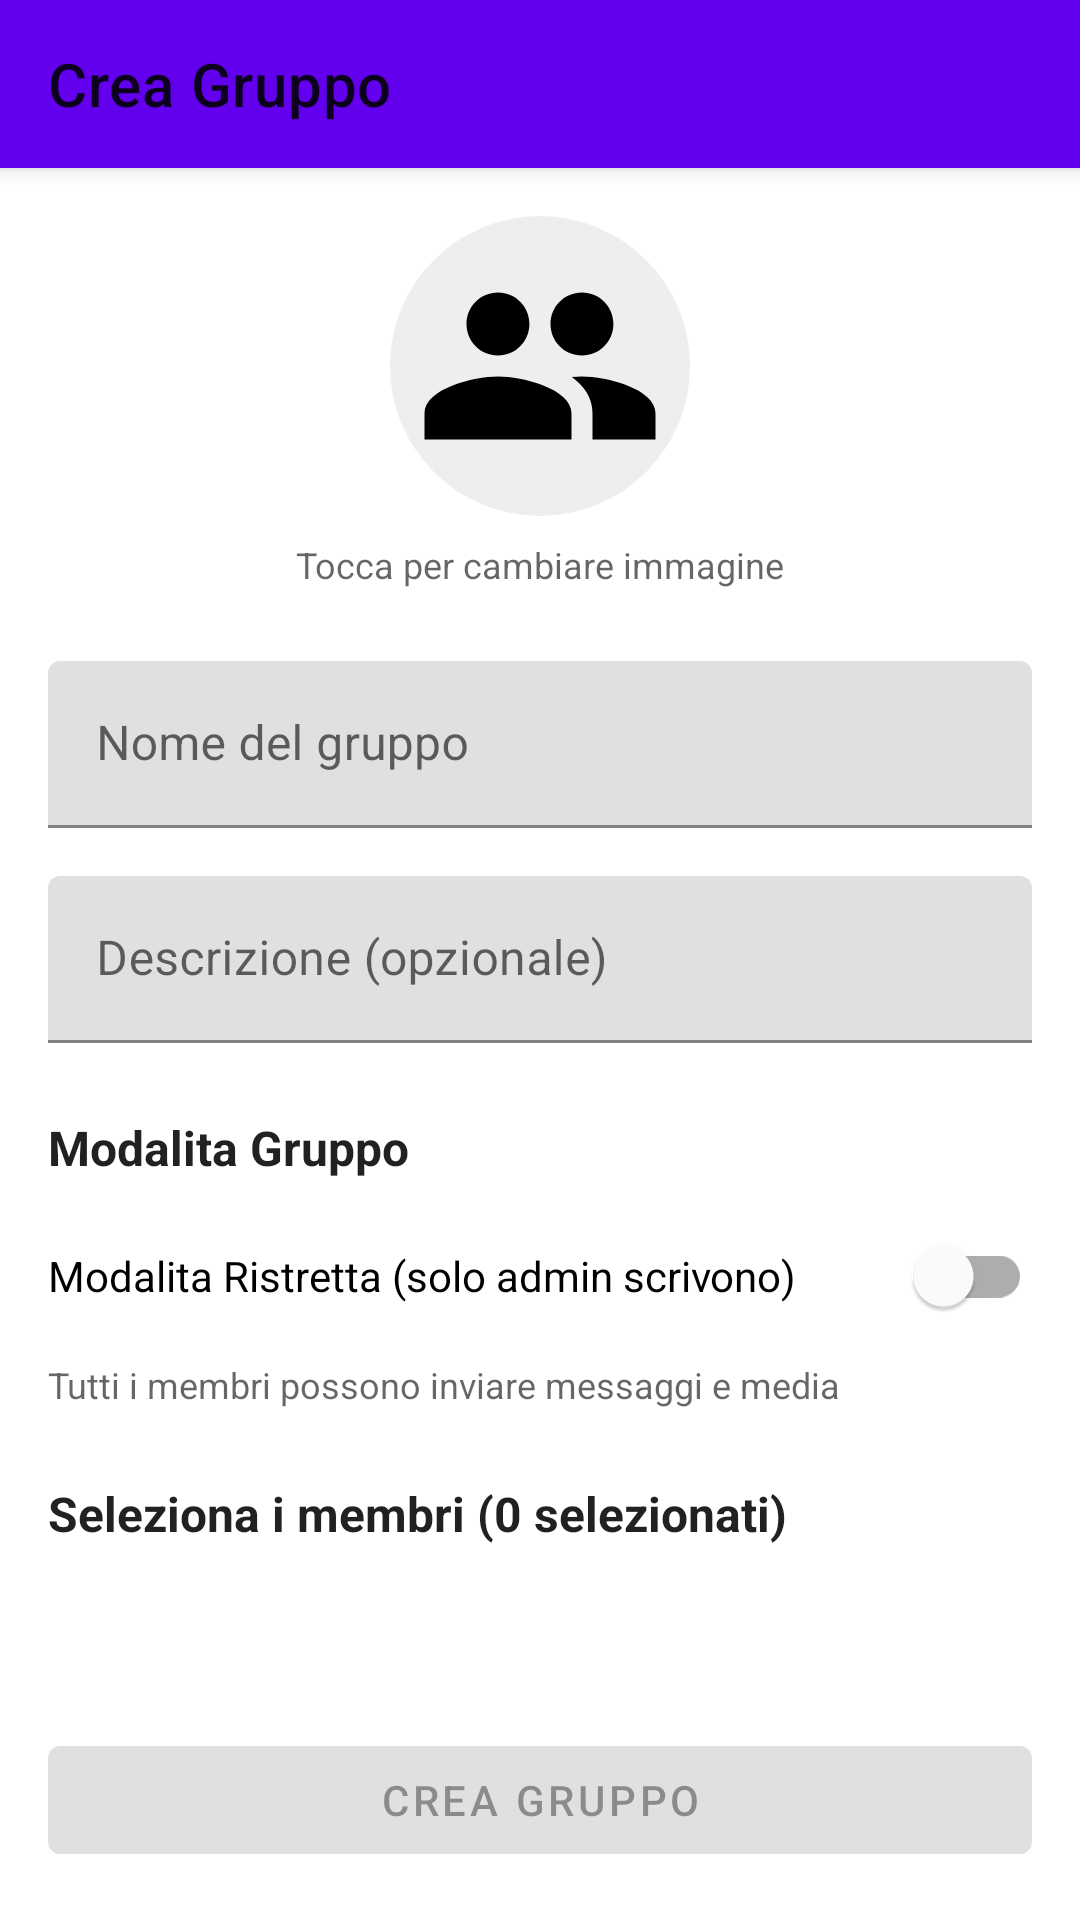

Point at icon controls on the screen. Image size 1080 x 1920, points as [x,y].
Immagine gruppo: [540,366]
